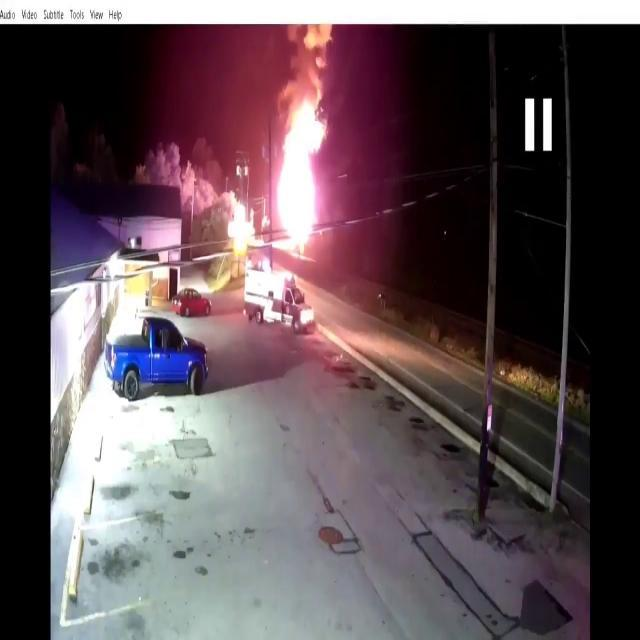Fire: (280, 150, 316, 250)
Smoke: (296, 26, 320, 102)
